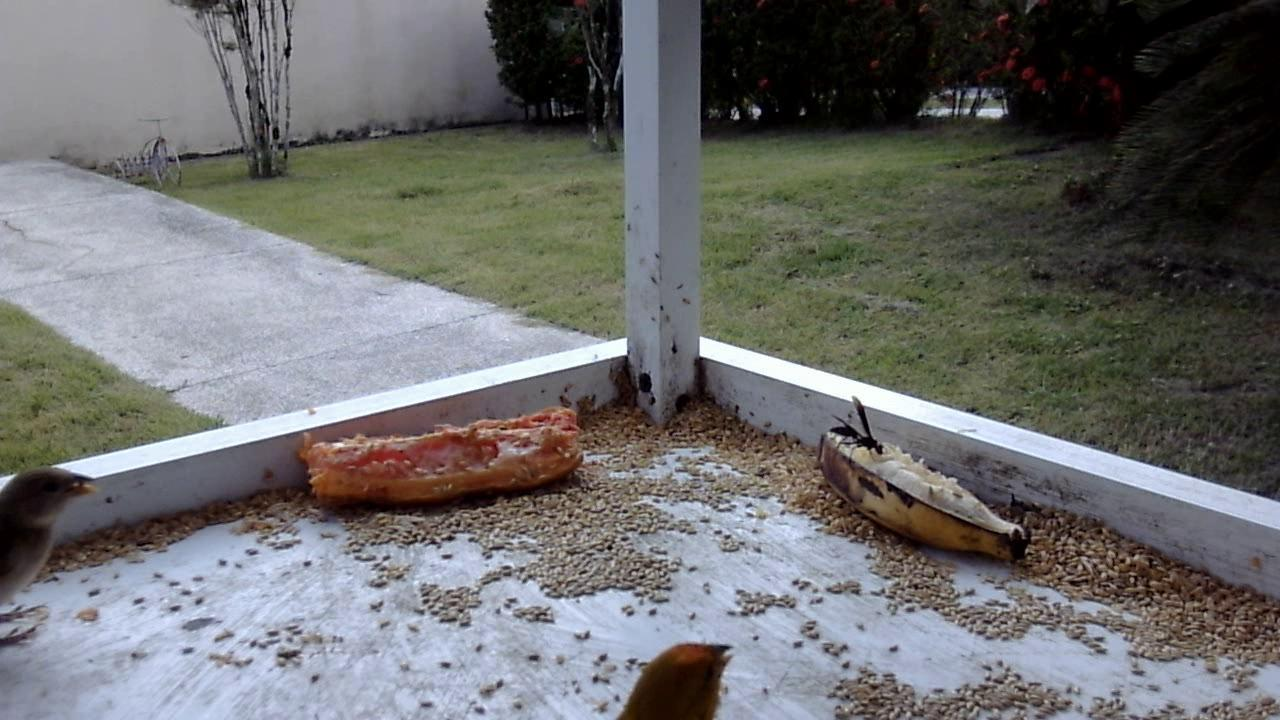canario_do_amazonas: (1, 460, 107, 655), (597, 630, 739, 716)
